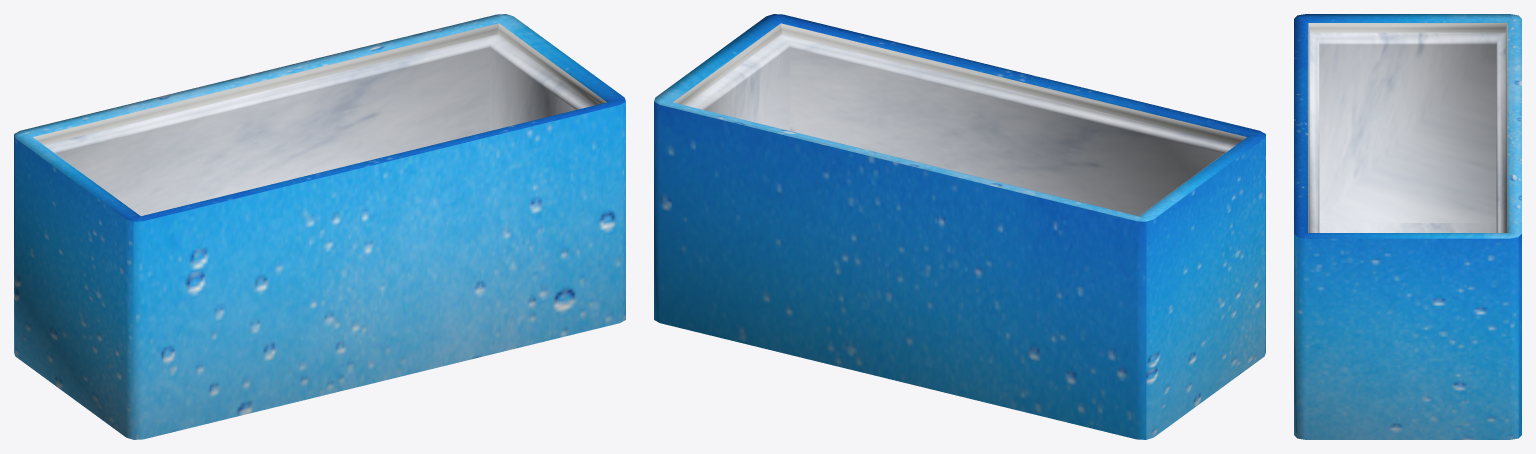
File: FryseDisk.glb
The picture shows the model from 3 angles, left to right: view 1: azimuth 30°, elevation 25°; view 2: azimuth 150°, elevation 25°; view 3: azimuth 270°, elevation 25°; orthographic projection. The views are drawn at different scales.
Visible parts, largest first — view 1: Cube; view 2: Cube; view 3: Cube.
Boxes of the visible parts, left/top/right/bottom form: Cube: left=14, top=14, right=625, bottom=439; Cube: left=654, top=14, right=1265, bottom=439; Cube: left=1294, top=14, right=1521, bottom=439.
Bounding box in the file's own units: 21.5 × 8.99 × 9.22.
Materials: 1 (1 with a texture image).
